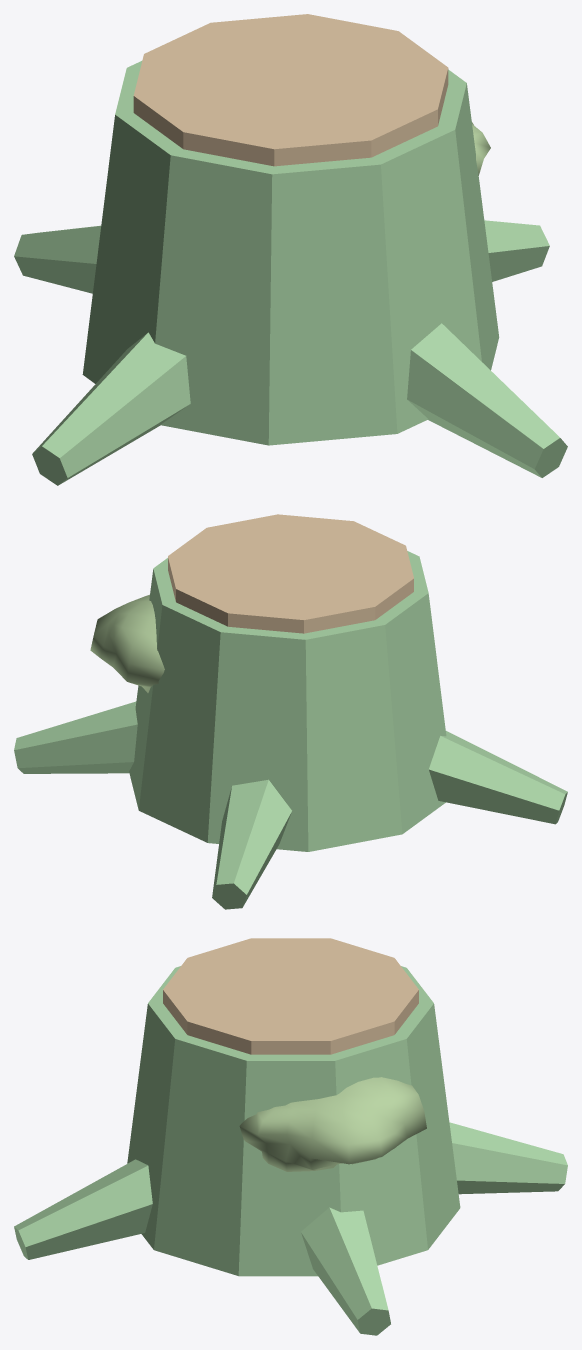
File: prop_stump.glb
3 renders of one model, top to bottom at view 1: azimuth 30°, elevation 25°; view 2: azimuth 150°, elevation 25°; view 3: azimuth 270°, elevation 25°, orthographic. The views are drawn at different scales.
Parts seen in each view (by area): view 1: prop_stump; view 2: prop_stump; view 3: prop_stump.
Part boxes in pixels (<box>): prop_stump: <box>14,14,567,485</box>; prop_stump: <box>14,514,567,909</box>; prop_stump: <box>14,938,567,1335</box>.
Size of the model in its own units: 1.47 by 0.6871 by 1.47.
